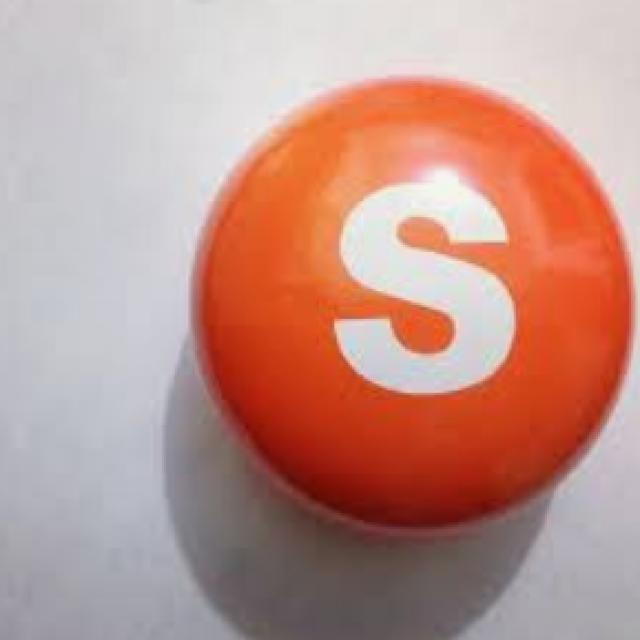smartie: (195, 81, 636, 527)
